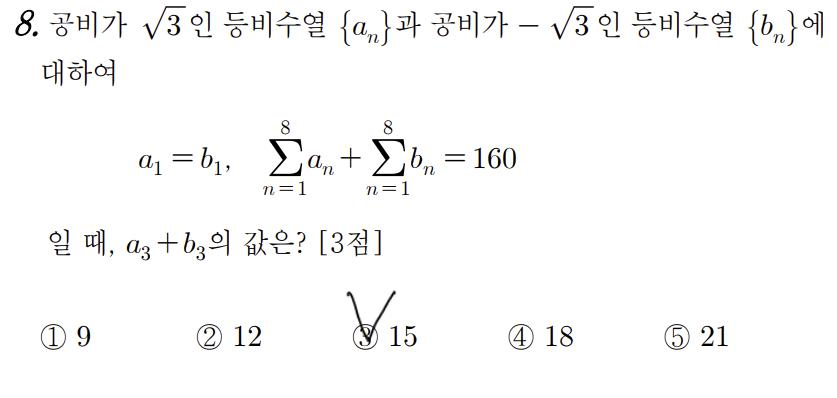1: (343, 290, 391, 351)
paper: (660, 321, 693, 355), (504, 321, 537, 355), (349, 321, 382, 355), (195, 320, 228, 354), (37, 321, 70, 355)
